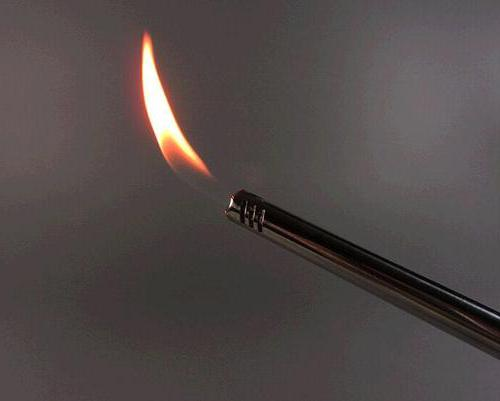fire: (135, 32, 230, 220)
